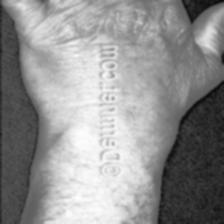Toxin: (124, 10, 167, 160), (43, 24, 93, 98)
